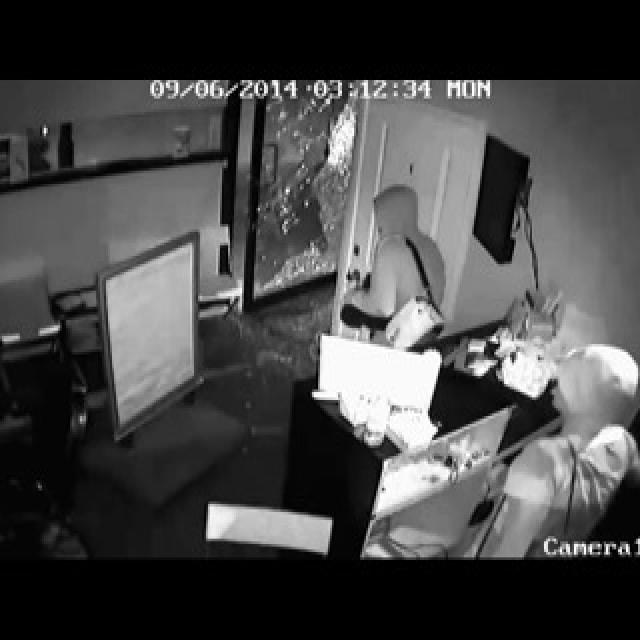thief: (330, 154, 430, 350)
